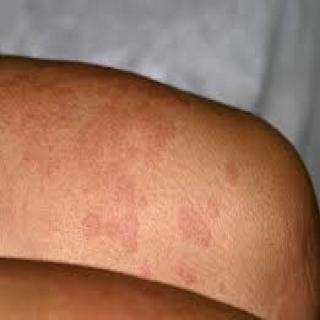urticaria: (100, 116, 175, 175), (71, 200, 144, 255), (170, 199, 218, 254), (217, 159, 244, 189), (174, 265, 195, 285)
